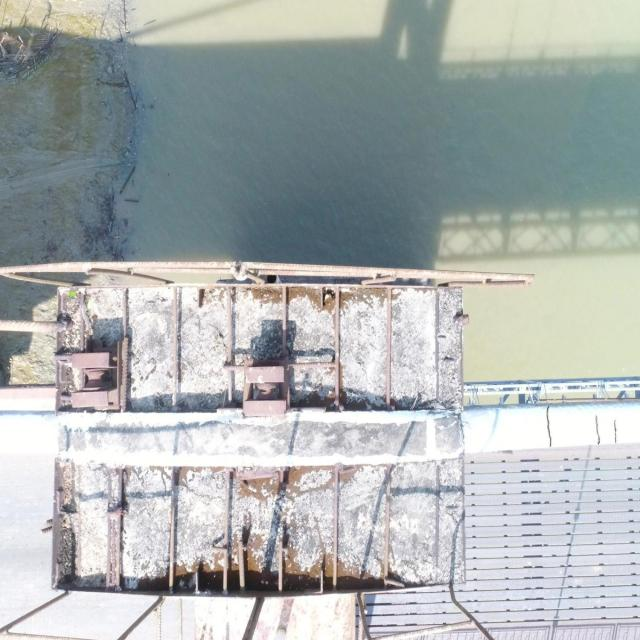crack: (544, 405, 553, 447), (594, 414, 602, 445), (613, 420, 618, 443)
